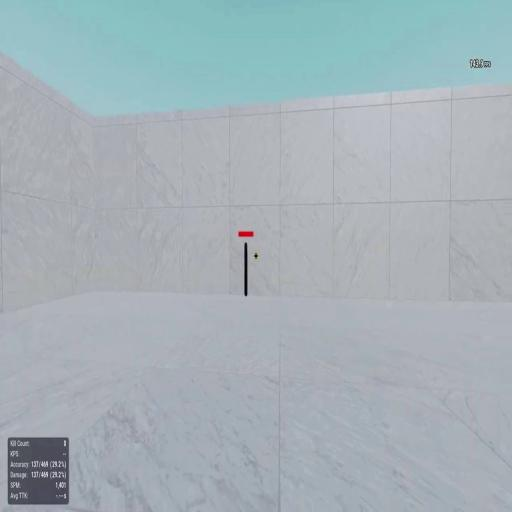Crosshair: (254, 252, 258, 260)
Target: (244, 243, 247, 296)
